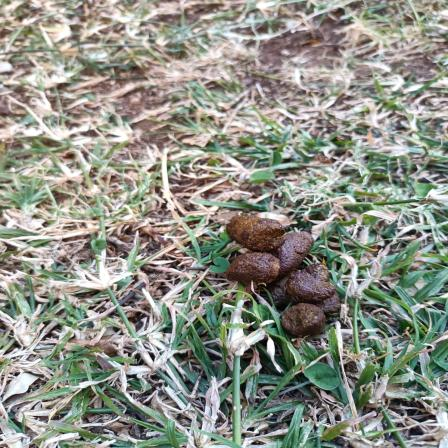dog-poop: (214, 212, 368, 344)
